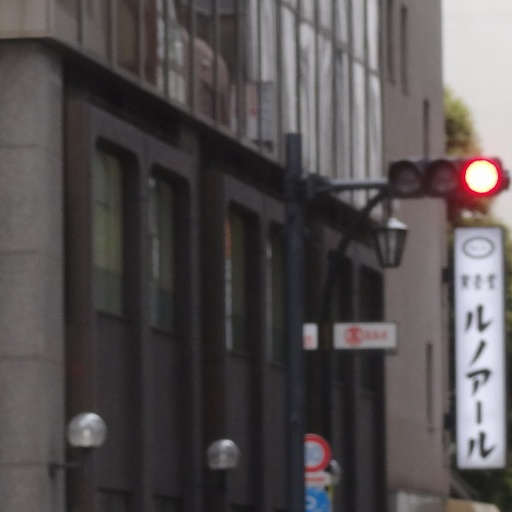Traffic_Signal_Red: (391, 152, 506, 205)
